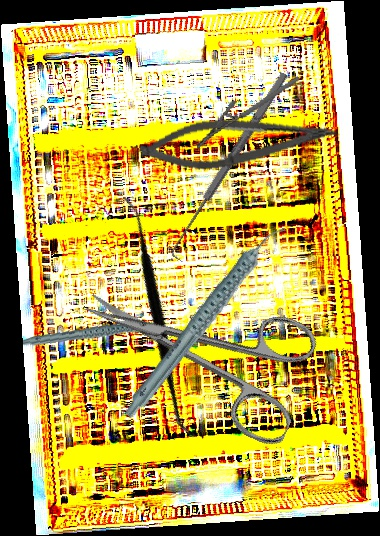Handpiece: (91, 222, 321, 422), (22, 308, 164, 362)
Hook Surgical: (165, 70, 297, 263)
Iris Scissors: (65, 241, 330, 450)
Micro Scissor: (135, 99, 343, 182)
Needle Holder: (186, 75, 310, 151)
Spatula Surgical: (37, 195, 282, 439)
